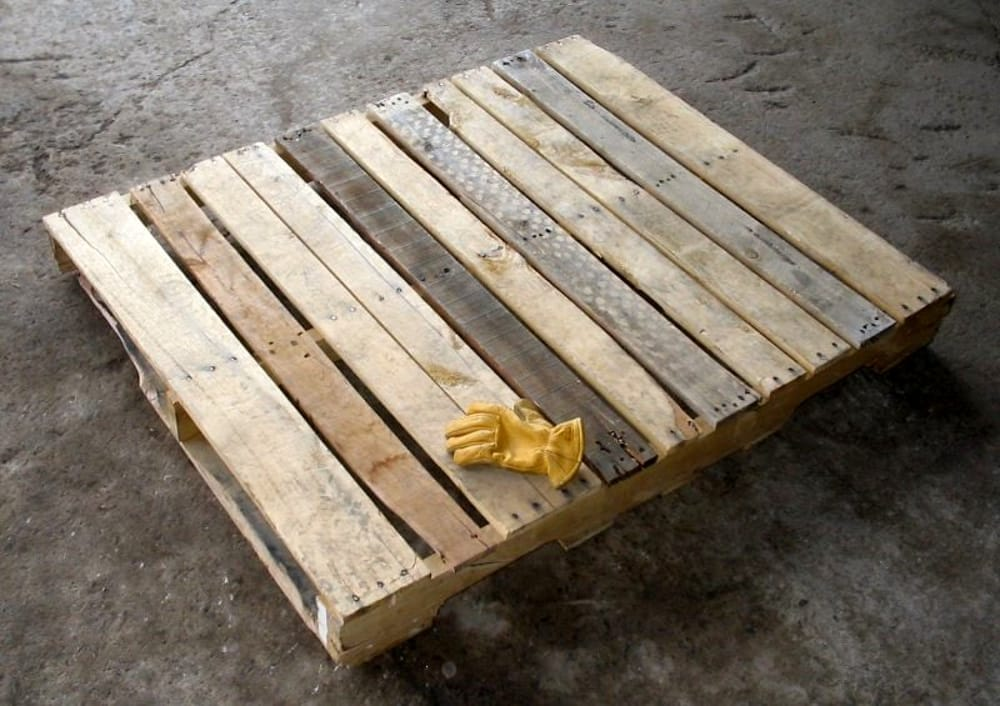pallet: (29, 36, 950, 670)
